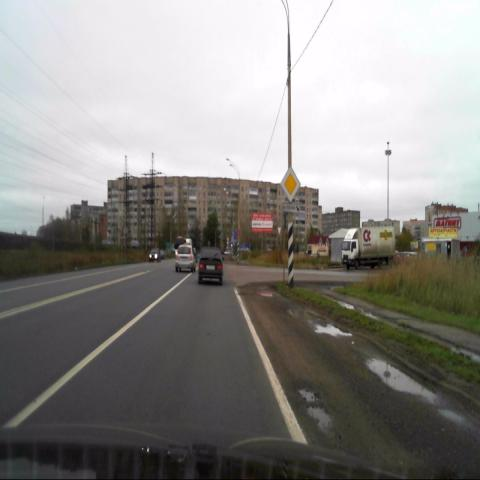2_1: (280, 167, 300, 202)
